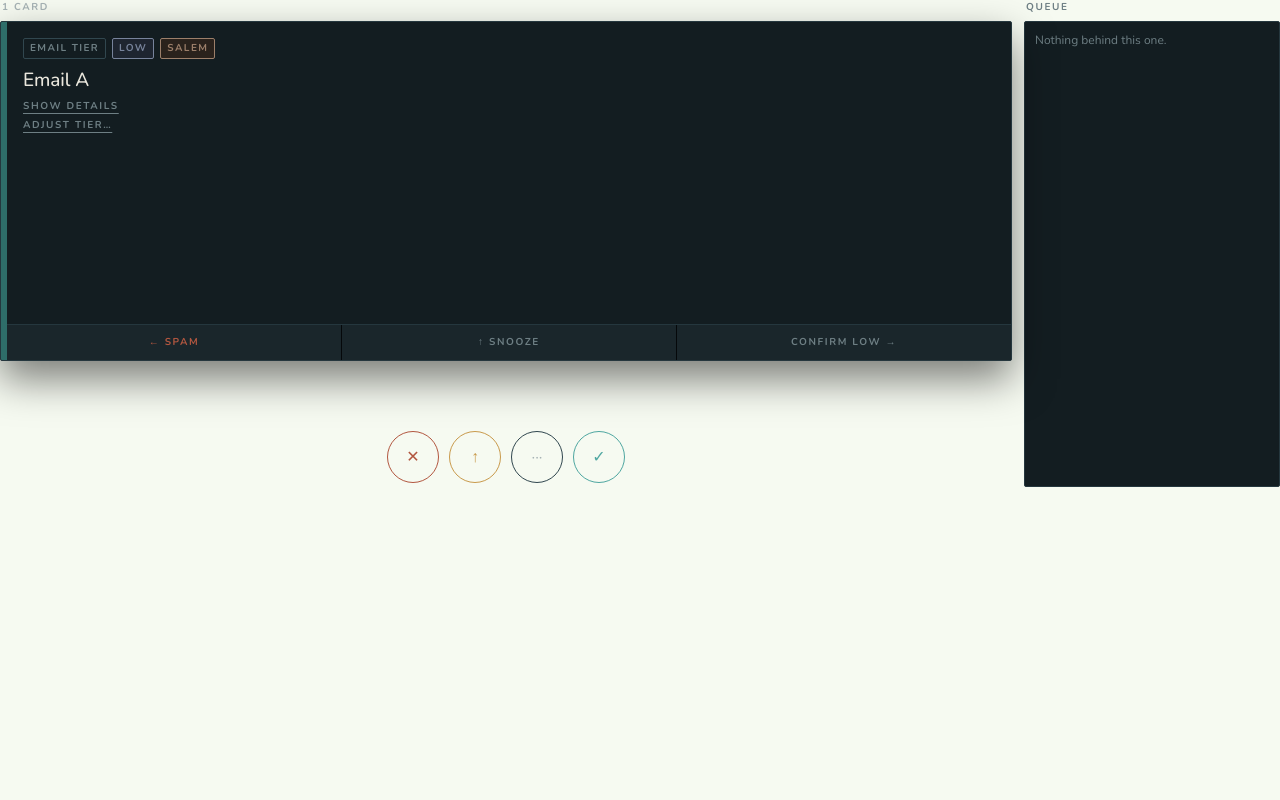
Test: Deck — re-tier picker (task #28 render) › "Adjust tier…" opens the picker with the tiers OTHER than the assigned one
The image size is (1280, 800).
Click the button with test id "deck-retier-open" at (68, 126), box top-left (23, 118), bottom-right (112, 133)
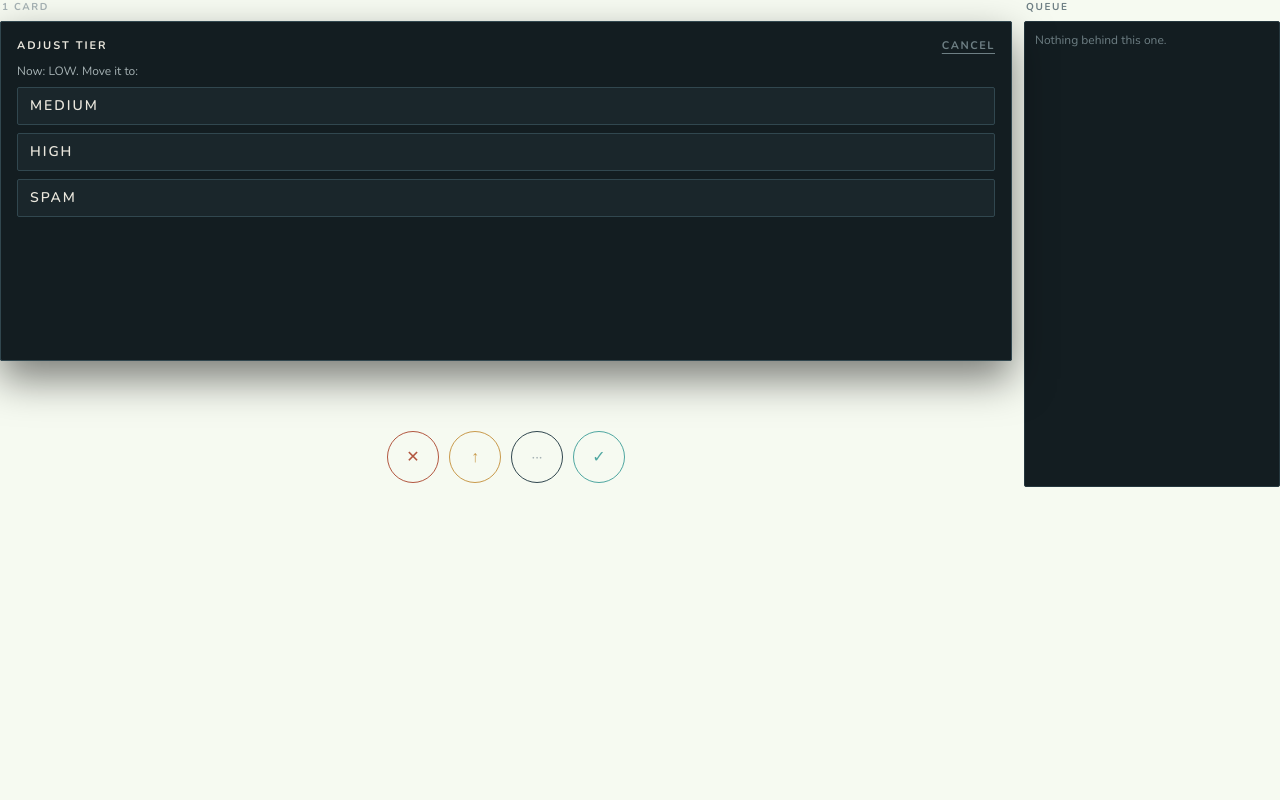
Expected: the dialog with test id "deck-retier-picker" is shown, top-left (0, 21), bottom-right (1012, 361)
Expected: the button with test id "deck-retier-choice-high" is shown, top-left (17, 132), bottom-right (995, 170)
Expected: the button with test id "deck-retier-choice-medium" is shown, top-left (17, 86), bottom-right (995, 124)
